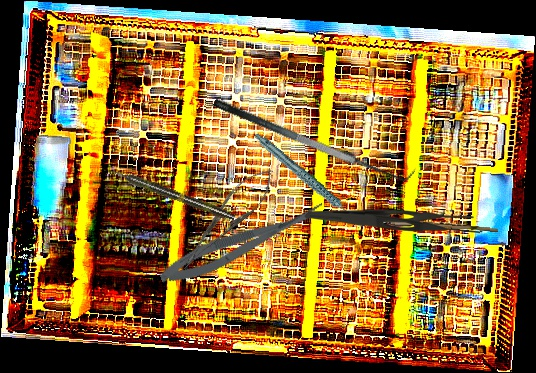Dressing Forceps: (303, 207, 485, 239)
Handpiece: (253, 116, 356, 240), (110, 165, 237, 224)
Micro Scissor: (154, 196, 331, 292)
Needle Holder: (171, 159, 283, 278)
Spatula Surgical: (212, 81, 417, 193)
Surgical Spoon: (348, 217, 499, 232)
